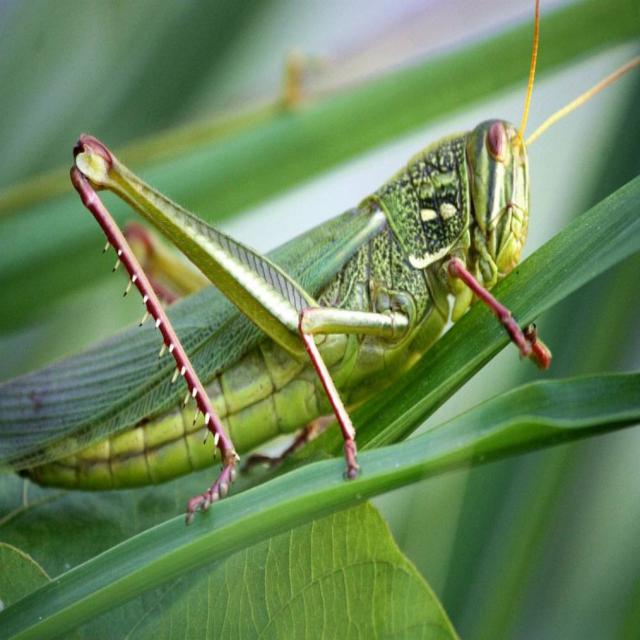ZhaMeng: (23, 40, 581, 514)
